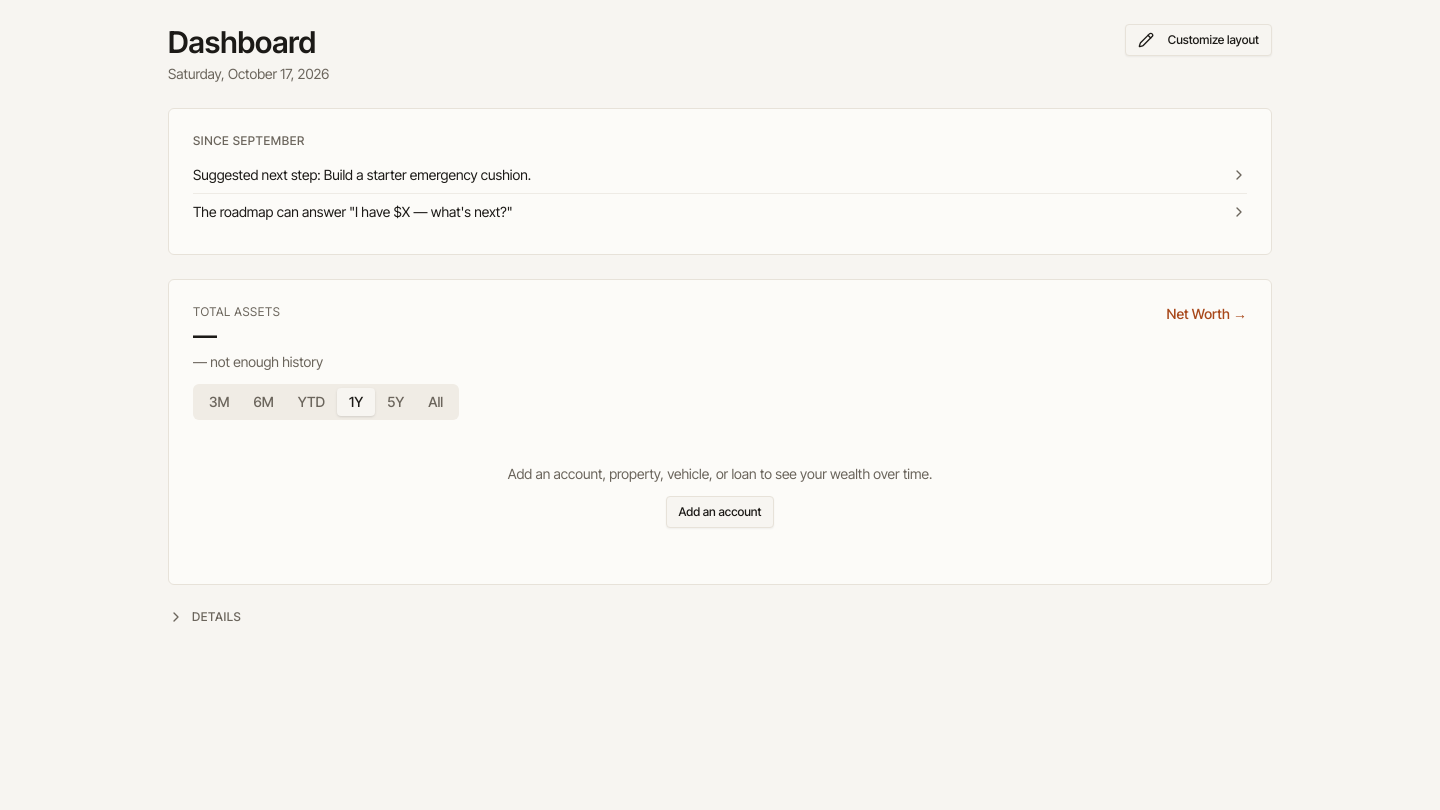
Test: W13 Details region + fixed hero chart › Details is collapsed by default: pill grid hidden until the toggle is clicked, then persisted
Step 1. Click the button with test id "dashboard-details-toggle" → click(205, 617), box [168,609,241,625]
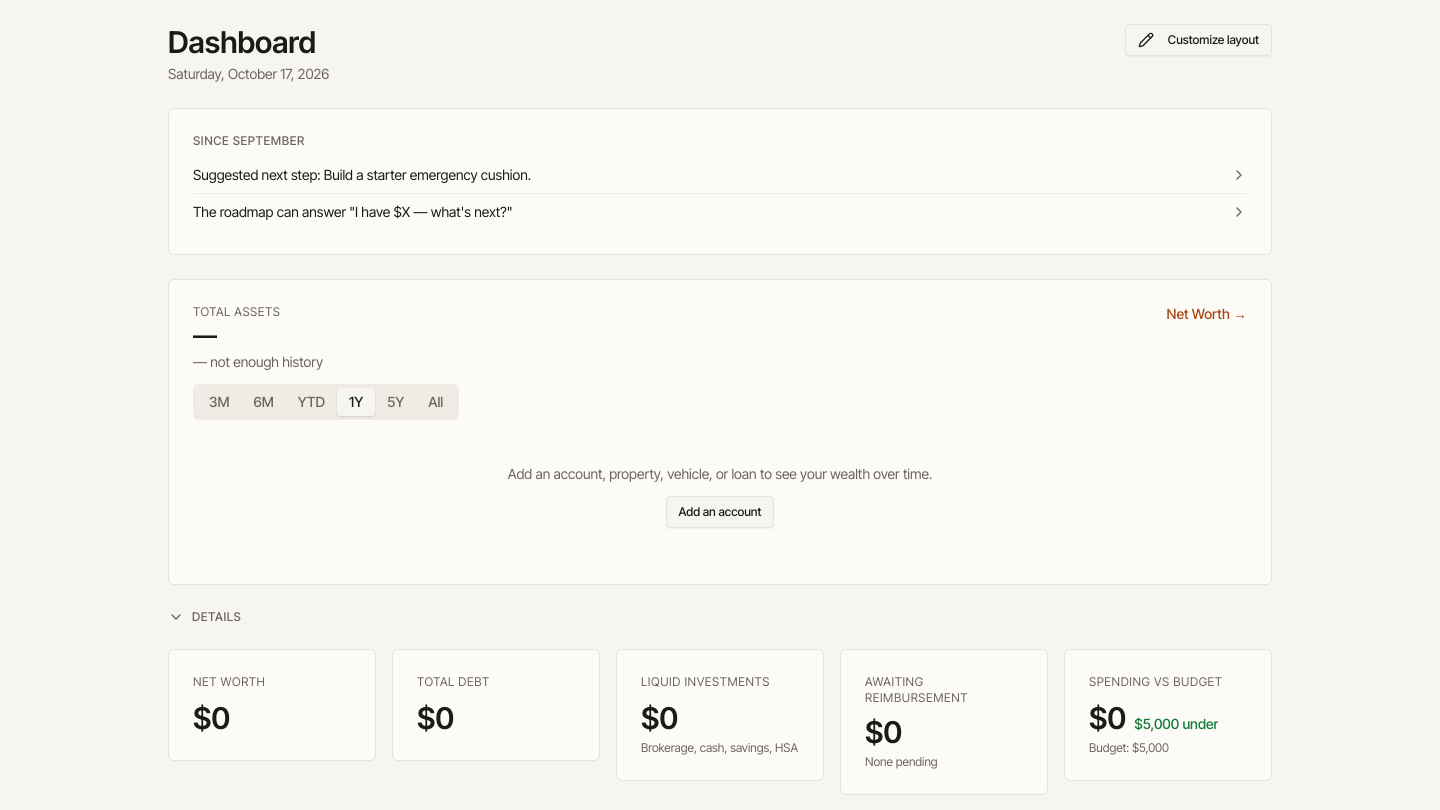
Result: the element with test id "dashboard-pill-grid" is shown at [168,649,1272,795]
